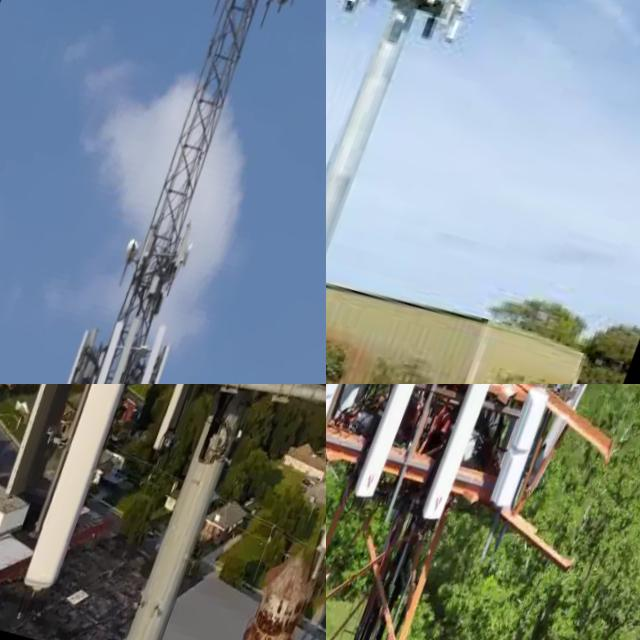GSM Antenna: (18, 384, 125, 606), (418, 384, 521, 539), (347, 384, 451, 517), (481, 386, 560, 530), (1, 384, 89, 512), (147, 384, 264, 457), (326, 384, 365, 469), (88, 317, 133, 384), (108, 314, 149, 384), (134, 323, 176, 384), (60, 330, 97, 384), (139, 341, 182, 384), (171, 222, 199, 282), (438, 0, 475, 29)
Microwave Antenna: (117, 232, 150, 276), (177, 241, 202, 277)
